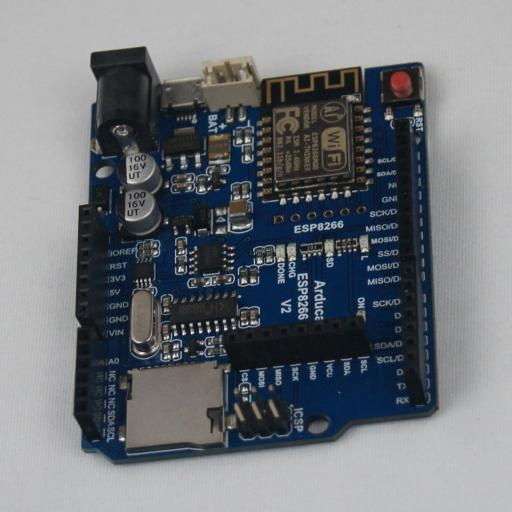Arduino Uno Camera Shield: (73, 46, 439, 464)
